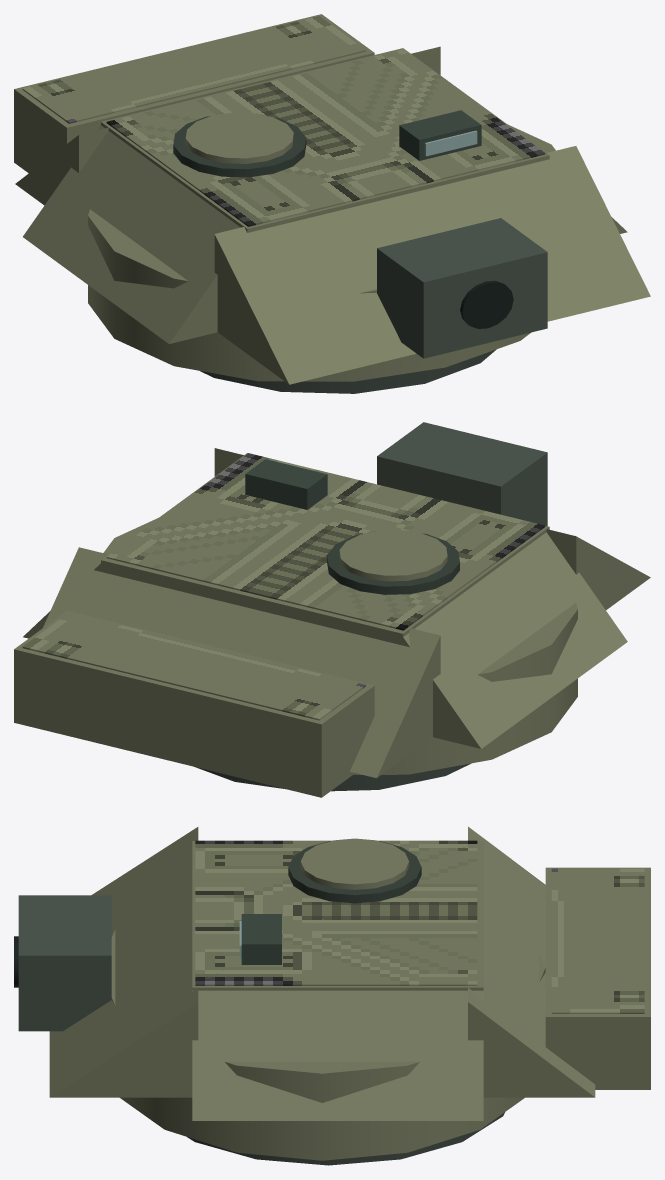
Rendered from CMU3DReduxVehicleSPPTankTurretMounted.glb.
3 views of the same model, one above another, from view 1: azimuth 30°, elevation 25°; view 2: azimuth 150°, elevation 25°; view 3: azimuth 270°, elevation 25° (orthographic).
Visible parts, largest first — view 1: sloped turret front, turret roof finish, left turret cheek, mantlet housing, bustle finish, turret lower casting, rear turret bustle, commander hatch, turret roof, sloped turret rear, rotating turret bearing, commander hatch rim (+3 smaller); view 2: turret roof finish, rear turret bustle, sloped turret rear, left turret cheek, bustle finish, mantlet housing, turret lower casting, turret roof, commander hatch, sloped turret front, periscope, commander hatch rim (+1 smaller); view 3: right turret cheek, turret roof finish, sloped turret front, sloped turret rear, turret lower casting, bustle finish, mantlet housing, rear turret bustle, commander hatch, turret roof, commander hatch rim, periscope (+1 smaller).
Boxes of the visible parts, x1,y1,x2,y2 form: sloped turret front: [214, 146, 650, 384]; turret roof finish: [106, 49, 545, 226]; left turret cheek: [23, 125, 249, 343]; mantlet housing: [377, 218, 547, 358]; bustle finish: [22, 16, 365, 123]; turret lower casting: [88, 124, 555, 381]; rear turret bustle: [14, 14, 374, 173]; commander hatch: [185, 112, 293, 163]; turret roof: [101, 48, 549, 232]; sloped turret rear: [15, 46, 440, 205]; rotating turret bearing: [200, 349, 496, 393]; commander hatch rim: [173, 114, 306, 177]; turret roof finish: [106, 453, 545, 630]; rear turret bustle: [14, 610, 374, 797]; sloped turret rear: [43, 547, 440, 778]; left turret cheek: [403, 532, 627, 748]; bustle finish: [22, 612, 365, 720]; mantlet housing: [377, 422, 547, 525]; turret lower casting: [103, 518, 577, 774]; turret roof: [101, 453, 549, 645]; commander hatch: [339, 530, 447, 581]; sloped turret front: [214, 448, 650, 609]; periscope: [245, 459, 327, 509]; commander hatch rim: [327, 531, 459, 594]; right turret cheek: [192, 990, 483, 1120]; turret roof finish: [195, 840, 477, 985]; sloped turret front: [49, 827, 198, 1097]; sloped turret rear: [468, 826, 595, 1097]; turret lower casting: [111, 930, 545, 1160]; bustle finish: [551, 868, 644, 1013]; mantlet housing: [18, 895, 111, 1031]; rear turret bustle: [545, 867, 650, 1089]; commander hatch: [300, 838, 409, 889]; turret roof: [192, 841, 483, 990]; commander hatch rim: [288, 841, 421, 903]; periscope: [241, 914, 281, 964].
Size of the model in its own units: 1.7 by 0.69 by 2.05.
9 materials, 2 textured.
